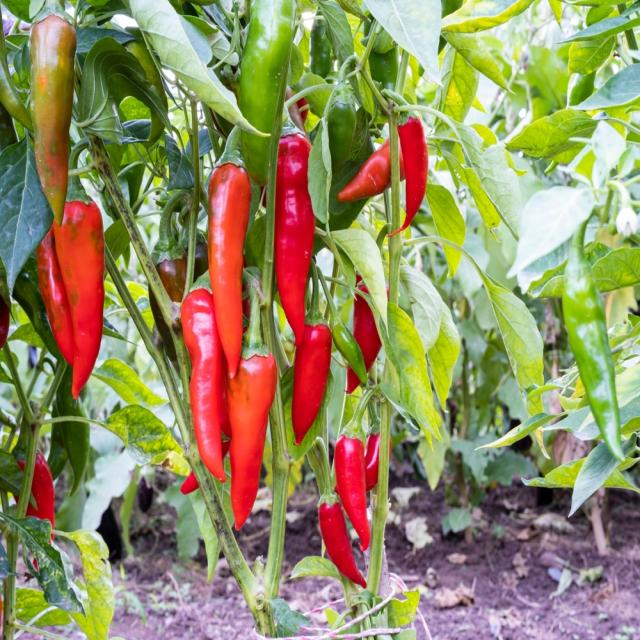Half-Ripe: (30, 14, 76, 226)
Ripe: (54, 200, 105, 397), (208, 163, 251, 376), (226, 354, 278, 529), (275, 132, 315, 346), (181, 288, 225, 481), (36, 226, 74, 364), (291, 323, 331, 444), (391, 115, 429, 235), (335, 434, 370, 549), (319, 502, 366, 587), (338, 139, 391, 202), (352, 290, 382, 375)
Unripe: (562, 222, 622, 460), (236, 0, 298, 191), (54, 393, 94, 496), (332, 322, 367, 383)
